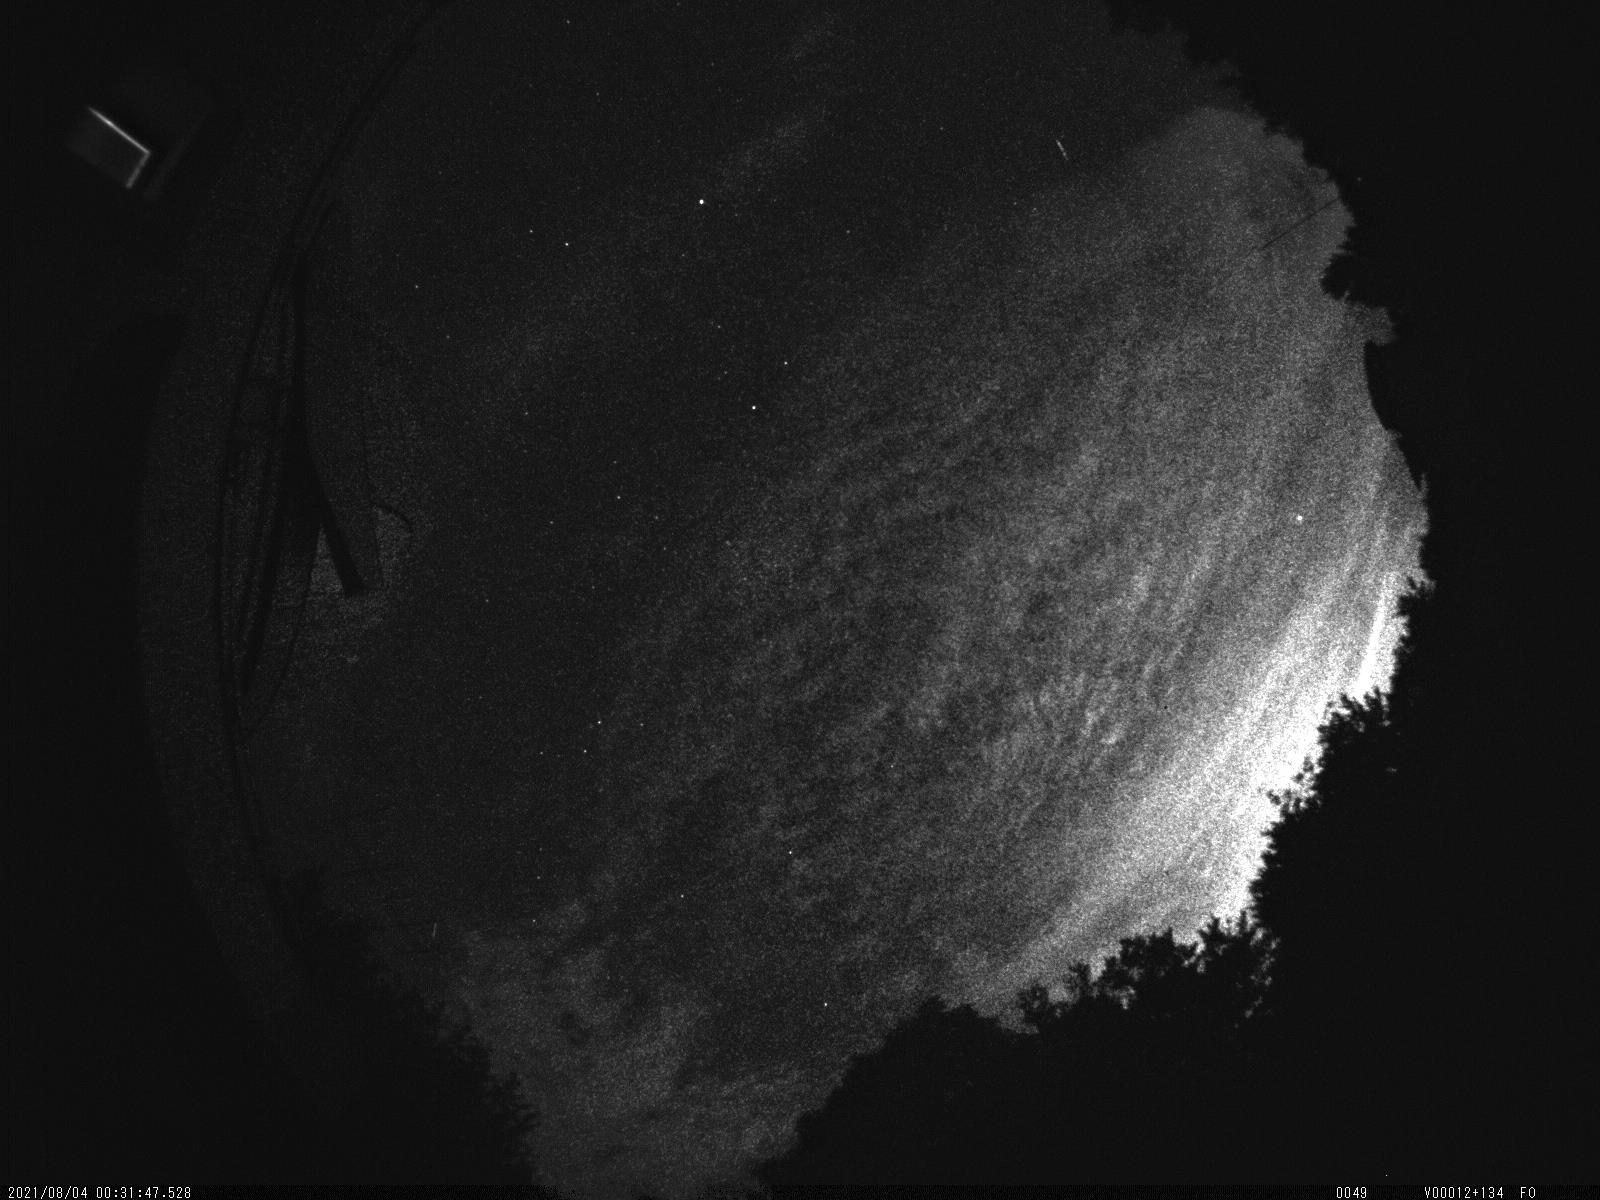Meteor: (1047, 127, 1077, 168)
